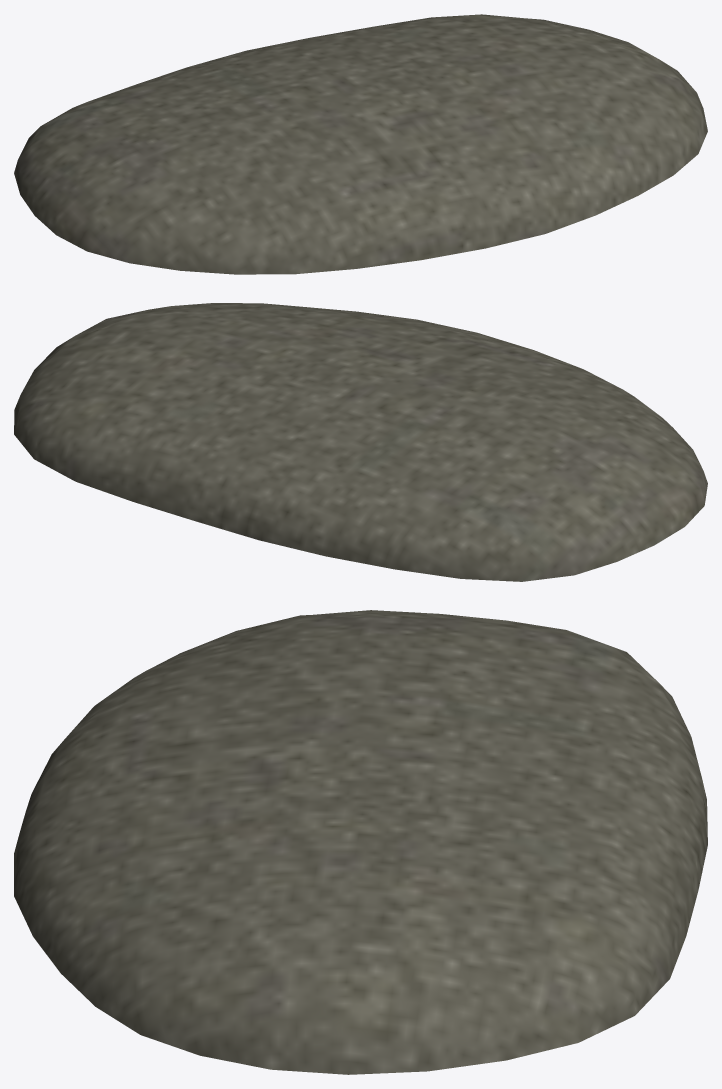
The model's file is tas_gravier.glb.
3 views of the same model, one above another, from view 1: azimuth 30°, elevation 25°; view 2: azimuth 150°, elevation 25°; view 3: azimuth 270°, elevation 25° (orthographic). The views are drawn at different scales.
Visible parts, largest first — view 1: Piles_of_crushed_stone; view 2: Piles_of_crushed_stone; view 3: Piles_of_crushed_stone.
Part boxes in pixels (x1=…): Piles_of_crushed_stone: x1=14, y1=14, x2=707, y2=274; Piles_of_crushed_stone: x1=14, y1=303, x2=707, y2=581; Piles_of_crushed_stone: x1=14, y1=610, x2=707, y2=1074.
Bounding box in the file's own units: 2.1 × 0.2186 × 1.4.
1 material, 1 textured.
